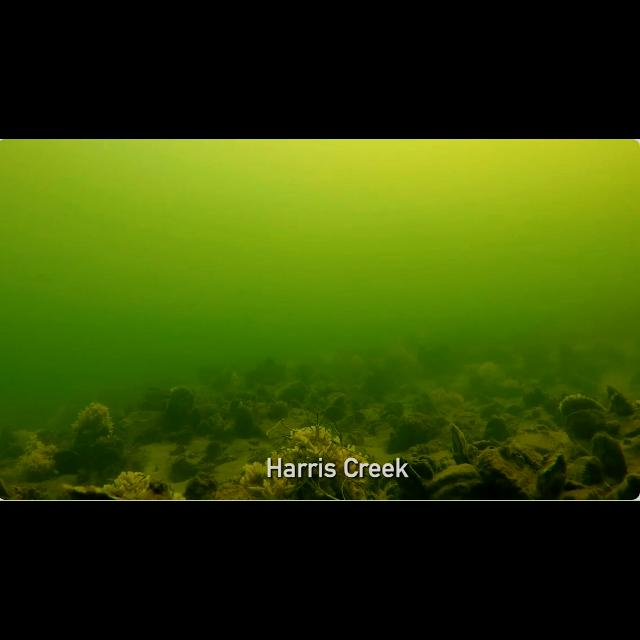Oyster-Closed: (406, 458, 490, 502), (478, 455, 532, 501), (584, 428, 634, 470), (387, 413, 437, 445), (561, 407, 611, 438), (383, 452, 421, 491), (554, 392, 610, 418), (161, 386, 195, 426), (513, 429, 561, 456), (600, 470, 640, 502), (232, 404, 266, 441), (56, 484, 124, 502), (567, 455, 607, 485), (114, 472, 160, 494), (184, 472, 220, 500), (154, 426, 196, 448), (87, 436, 127, 458), (448, 424, 472, 460), (272, 384, 314, 404), (117, 411, 163, 429), (608, 388, 638, 414), (372, 399, 408, 419), (208, 409, 230, 438), (503, 442, 525, 466), (0, 481, 24, 502), (472, 436, 503, 452), (197, 416, 217, 440), (34, 427, 60, 445), (232, 387, 258, 405), (206, 439, 227, 461), (335, 410, 357, 430), (8, 443, 30, 462), (190, 406, 208, 426), (170, 456, 190, 474), (325, 403, 345, 421), (268, 404, 290, 418), (257, 385, 275, 401), (231, 398, 255, 408), (220, 404, 238, 416), (332, 392, 350, 404)
Oyster-Open: (534, 454, 572, 490), (50, 446, 82, 472), (411, 452, 439, 478), (482, 417, 510, 441), (345, 428, 369, 446)
